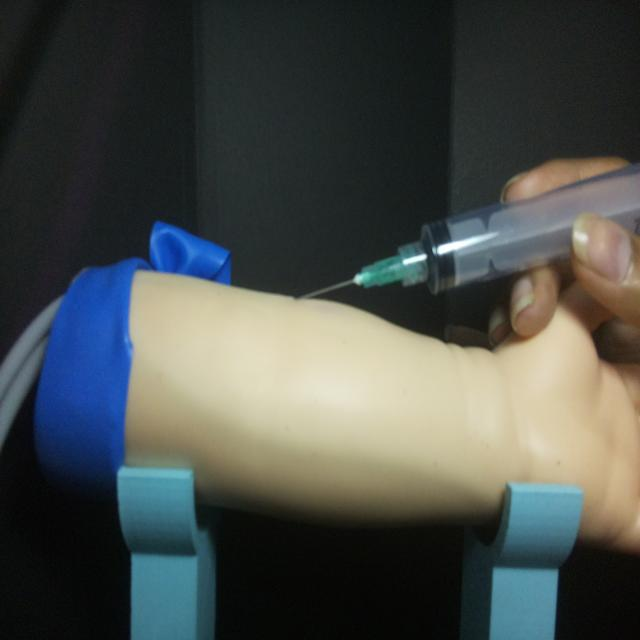15deg: (295, 158, 638, 305)
